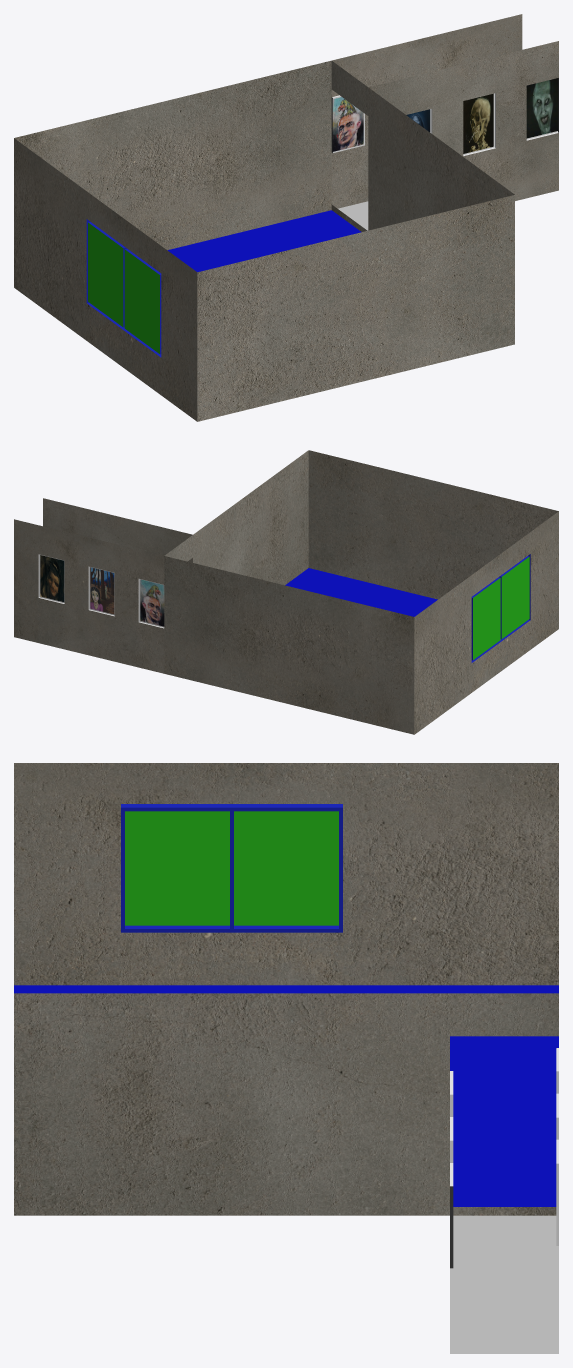
The model's file is room v2.obj.
The picture shows the model from 3 angles, top to bottom: view 1: azimuth 30°, elevation 25°; view 2: azimuth 150°, elevation 25°; view 3: azimuth 270°, elevation 25°; orthographic projection. The views are drawn at different scales.
Parts seen in each view (by area): view 1: room_Plane, hall_Plane.001; view 2: room_Plane, hall_Plane.001; view 3: room_Plane, hall_Plane.001.
Boxes of the visible parts, x1=… form: room_Plane: x1=14, y1=60, x2=514, y2=421; hall_Plane.001: x1=331, y1=14, x2=558, y2=230; room_Plane: x1=164, y1=450, x2=558, y2=734; hall_Plane.001: x1=14, y1=498, x2=192, y2=673; room_Plane: x1=14, y1=763, x2=558, y2=1215; hall_Plane.001: x1=450, y1=1048, x2=558, y2=1353.
Bounding box in the file's own units: 32 × 9 × 20.
